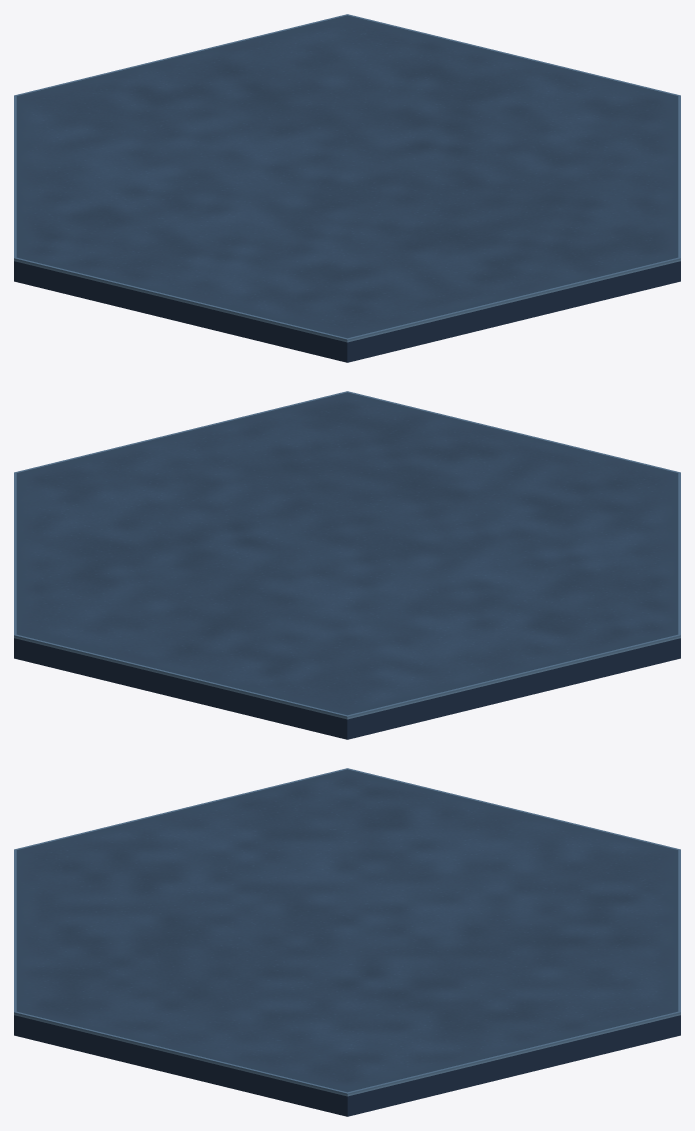
The model's file is campus_base_hex_v01.glb.
3 renders of one model, top to bottom at view 1: azimuth 30°, elevation 25°; view 2: azimuth 150°, elevation 25°; view 3: azimuth 270°, elevation 25°, orthographic.
Visible parts, largest first — view 1: campus_base_hex; view 2: campus_base_hex; view 3: campus_base_hex.
Part boxes in pixels (box(x1,y1,x2,y2)): campus_base_hex: box(14, 14, 680, 362); campus_base_hex: box(14, 391, 680, 739); campus_base_hex: box(14, 768, 680, 1116).
Size of the model in its own units: 36 by 1.2 by 31.18.
Materials: 1 (1 with a texture image).
